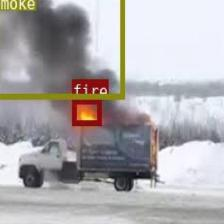fire: (72, 98, 100, 124)
smoke: (0, 0, 124, 98)
